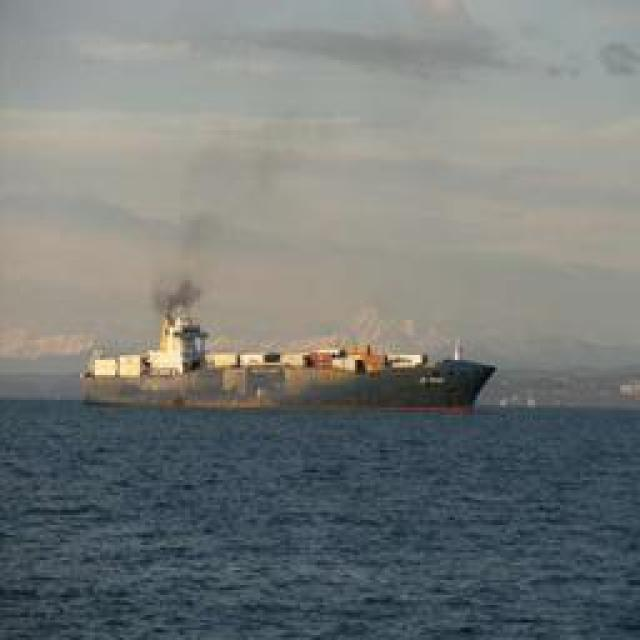ship2: (78, 280, 498, 416)
